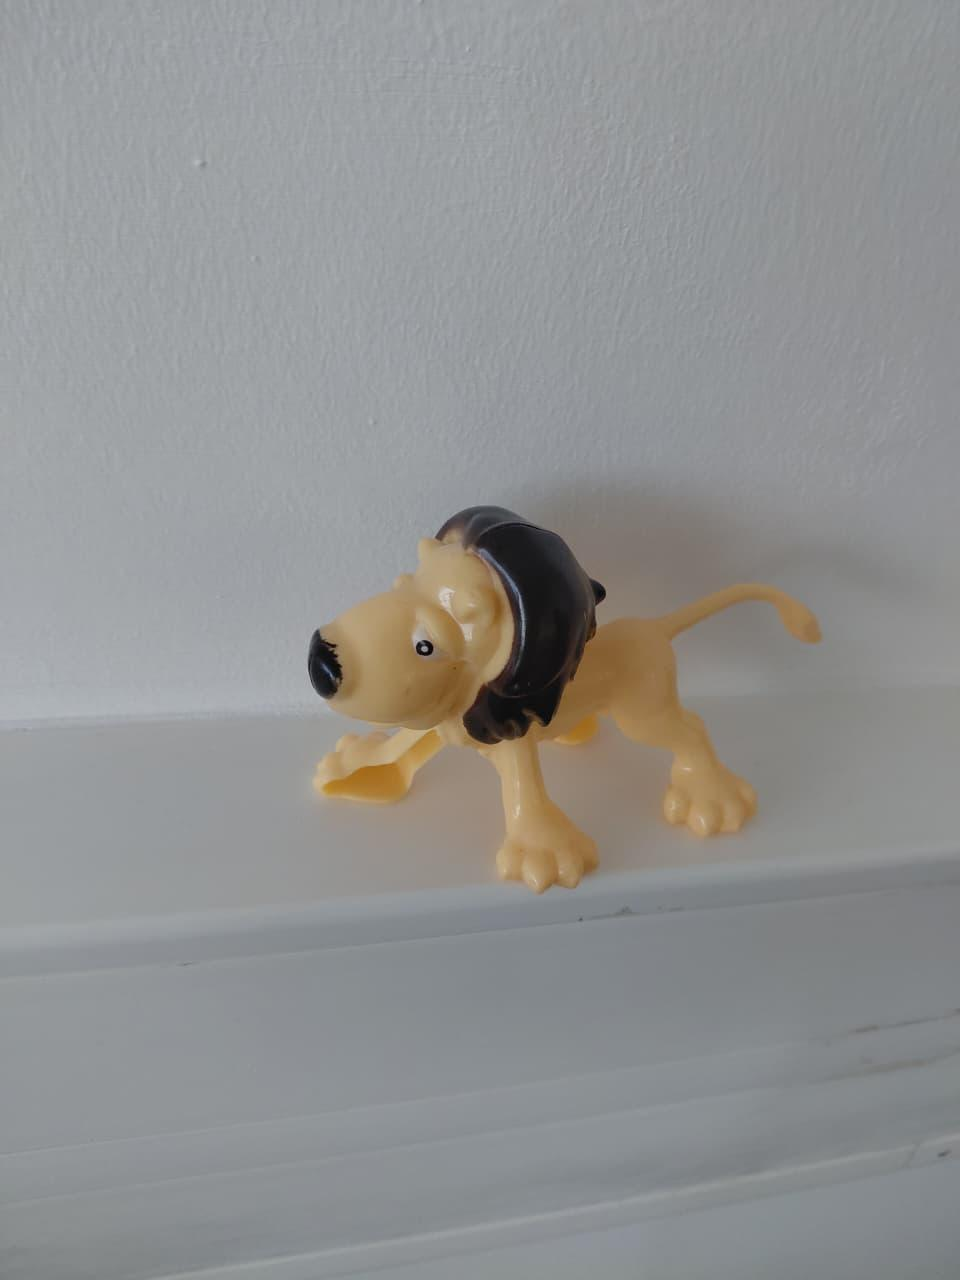lion: (265, 428, 892, 913)
